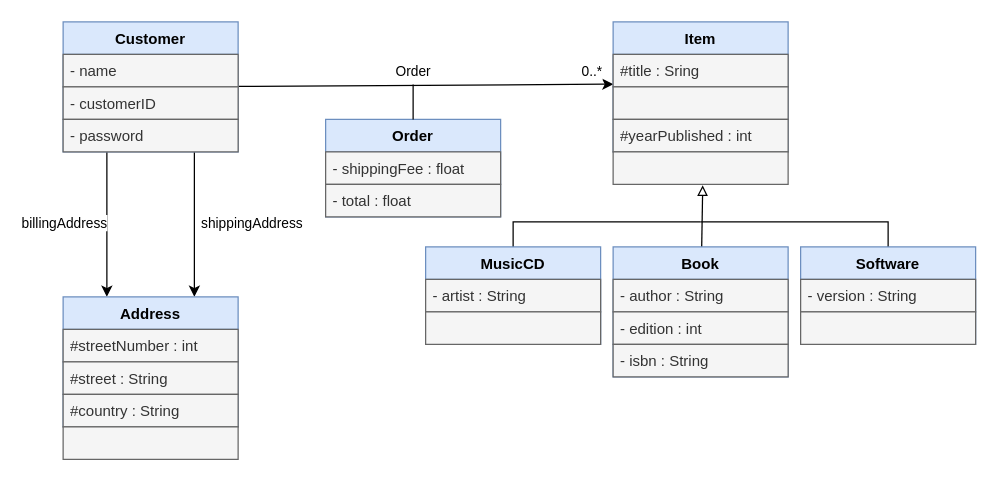
Image size: 998x485. Some labels were removed from this diagram. The shapes that lost their labels are listed below. From the top down, each one's centre as x and y in pixels, then its label:
the point at 700,102: #publisher : String
the point at 700,167: #price : float
the point at 150,442: #zipCode : int
